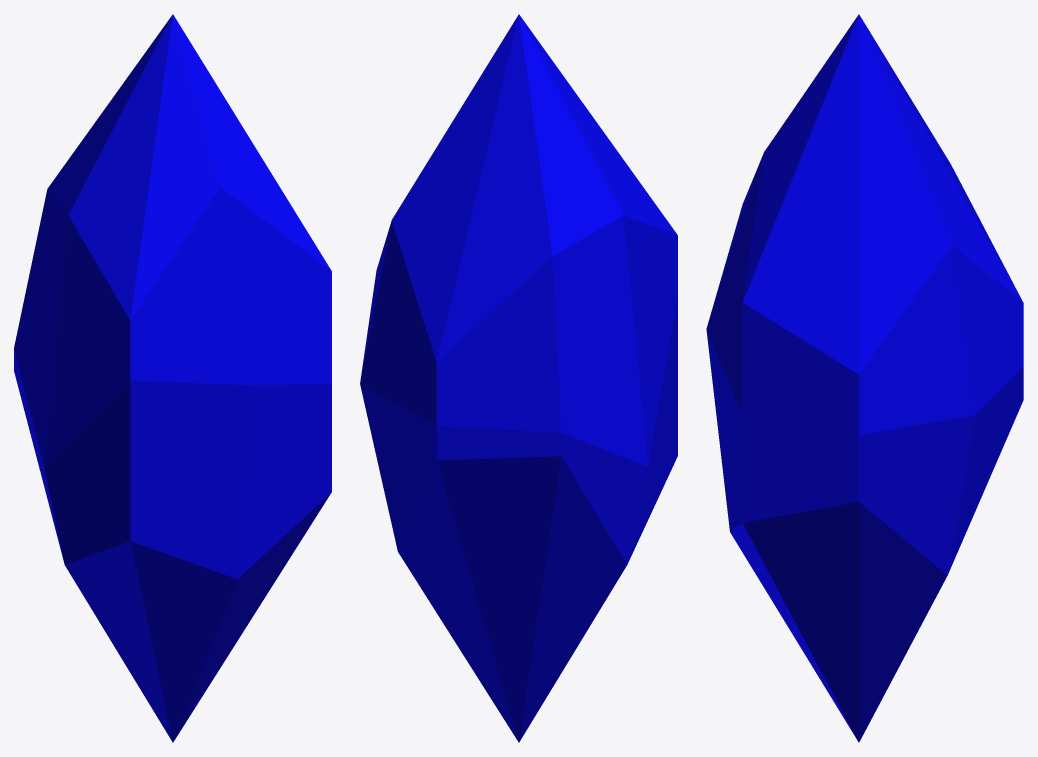
The model's file is Blue_Crystal_02.fbx.
The picture shows the model from 3 angles, left to right: view 1: azimuth 30°, elevation 25°; view 2: azimuth 150°, elevation 25°; view 3: azimuth 270°, elevation 25°; orthographic projection.
Parts seen in each view (by area): view 1: Blue_Crystal_02; view 2: Blue_Crystal_02; view 3: Blue_Crystal_02.
Boxes of the visible parts, x1=… form: Blue_Crystal_02: x1=14, y1=14, x2=331, y2=742; Blue_Crystal_02: x1=360, y1=14, x2=677, y2=742; Blue_Crystal_02: x1=706, y1=14, x2=1023, y2=742.
Bounding box in the file's own units: 3.19 × 8.19 × 3.23.
